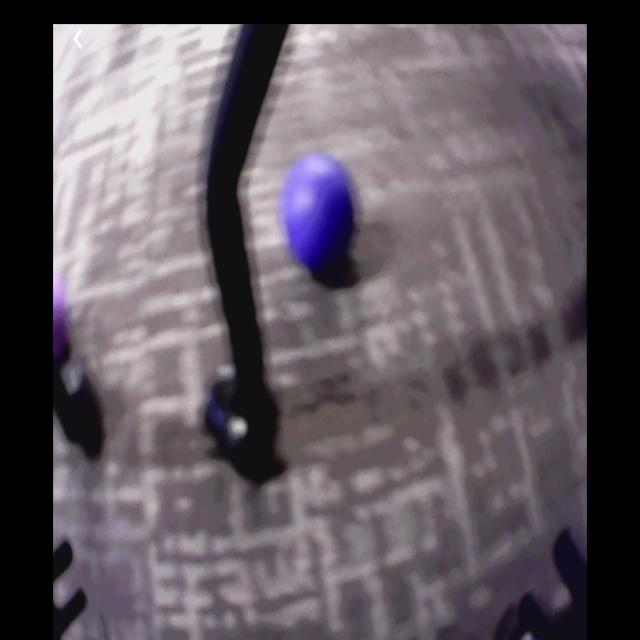ball: (284, 151, 357, 278), (53, 280, 71, 362)
